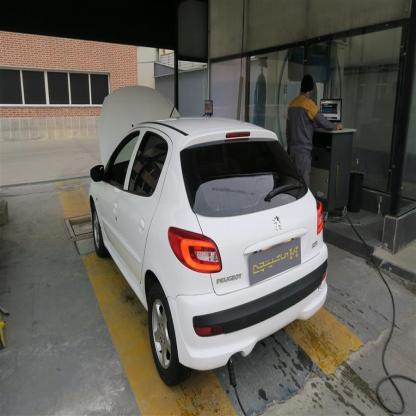Car: (82, 114, 333, 369)
